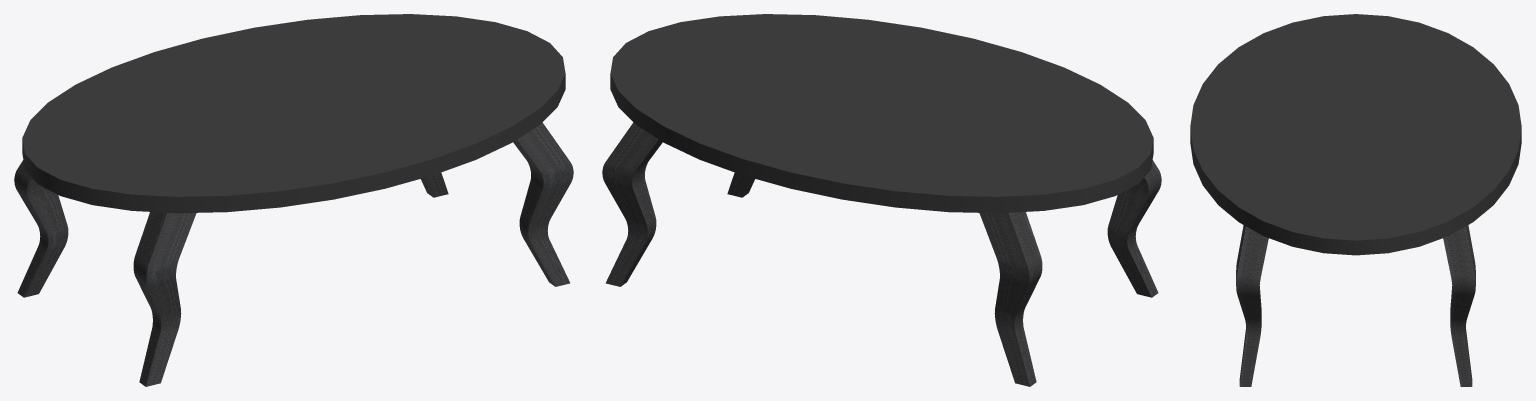
The model's file is mesa.obj.
3 renders of one model, left to right at view 1: azimuth 30°, elevation 25°; view 2: azimuth 150°, elevation 25°; view 3: azimuth 270°, elevation 25°, orthographic. The views are drawn at different scales.
Visible parts, largest first — view 1: Circle, Plane.007_Plane.004, Plane.006_Plane.002, Plane; view 2: Circle, Plane, Plane.005_Plane.001, Plane.007_Plane.004; view 3: Circle, Plane.005_Plane.001, Plane.006_Plane.002.
Part boxes in pixels (left/top/right/bottom): Circle: left=22, top=14, right=565, bottom=213; Plane.007_Plane.004: left=133, top=212, right=196, bottom=386; Plane.006_Plane.002: left=513, top=122, right=573, bottom=286; Plane: left=14, top=160, right=68, bottom=297; Circle: left=610, top=14, right=1153, bottom=213; Plane: left=979, top=212, right=1042, bottom=386; Plane.005_Plane.001: left=602, top=122, right=662, bottom=286; Plane.007_Plane.004: left=1107, top=160, right=1161, bottom=297; Circle: left=1190, top=14, right=1521, bottom=255; Plane.005_Plane.001: left=1443, top=225, right=1475, bottom=386; Plane.006_Plane.002: left=1236, top=225, right=1268, bottom=386.
Size of the model in its own units: 7.62 by 2.6 by 4.71.
Materials: 1 (1 with a texture image).
